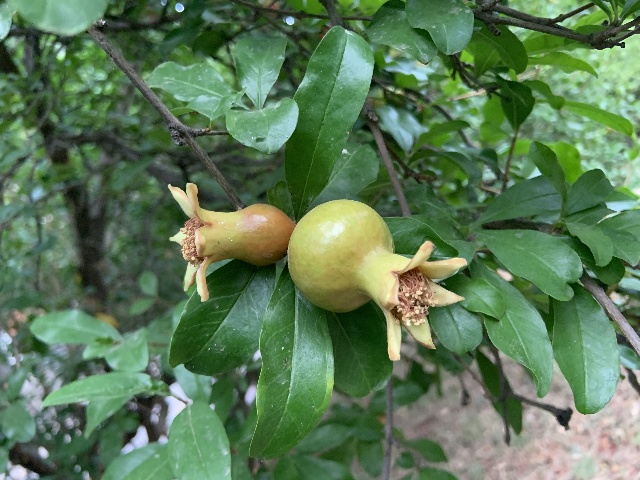early-fruit: (168, 181, 293, 302)
mid-growth: (288, 199, 467, 360)
